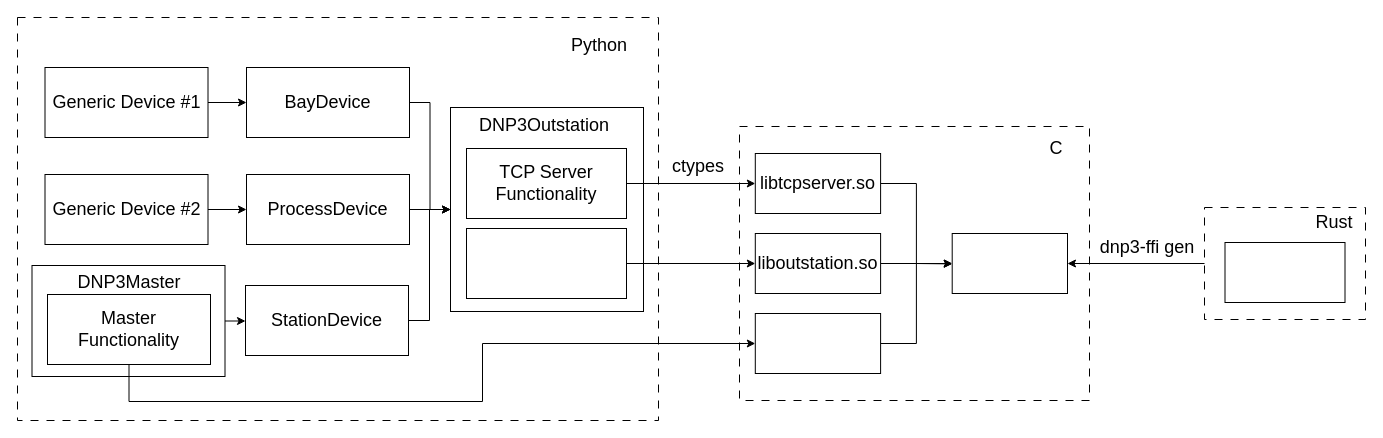
Image size: 1383x438. Some labels were removed from this diagram. Here are the shapes that lost their labels. From the top down, the centre of each, then its label:
At [546,263]: "Outstation Functionality".
At [1009,263]: "libdnp3_ffi.so".
At [1284,272]: "Core dnp3 library".
At [817,343]: "libmaster.so".
